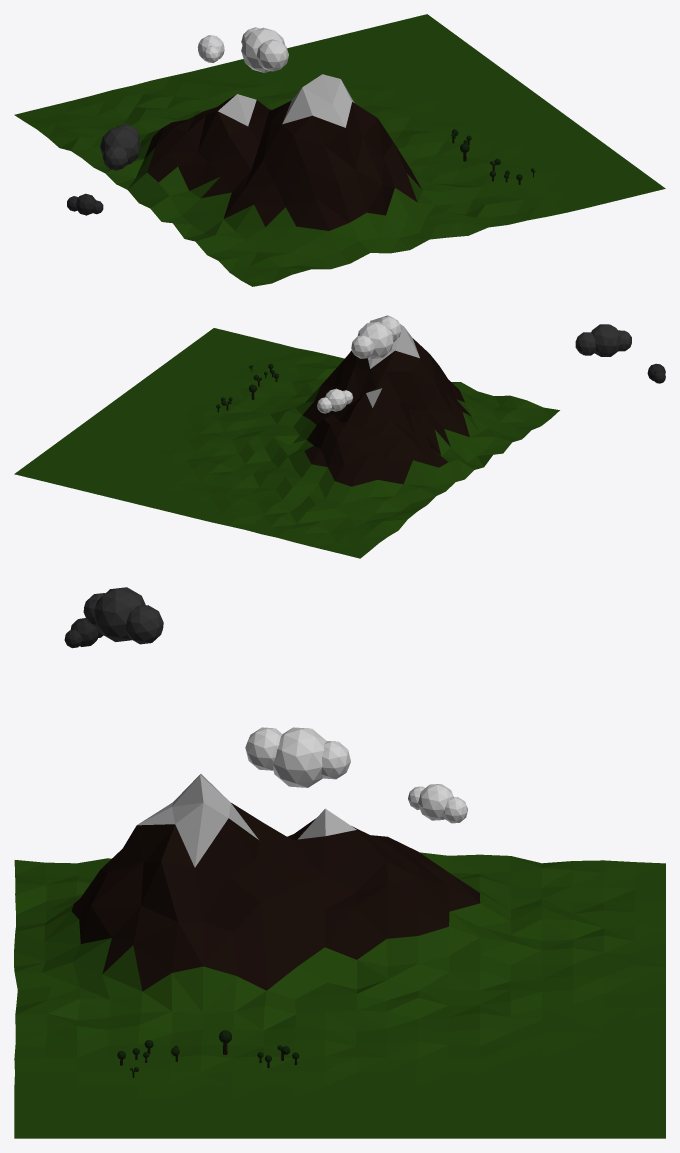
File: low_poly_mountain_scene.fbx
3 views of the same model, one above another, from view 1: azimuth 30°, elevation 25°; view 2: azimuth 150°, elevation 25°; view 3: azimuth 270°, elevation 25° (orthographic). The views are drawn at different scales.
Visible parts, largest first — view 1: Plane (×6); view 2: Plane (×5); view 3: Plane (×5).
Part boxes in pixels (x1=…): Plane (×6): x1=14, y1=14, x2=665, y2=286; Plane (×5): x1=14, y1=315, x2=631, y2=558; Plane (×5): x1=14, y1=587, x2=665, y2=1138.
Bounding box in the file's own units: 19.3 × 5.04 × 14.05.
